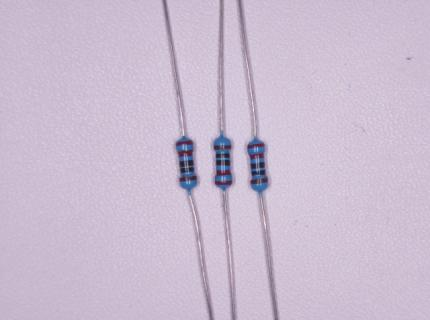Black band: (180, 160, 194, 167), (251, 163, 265, 169), (252, 170, 266, 176), (181, 167, 194, 173), (216, 160, 230, 165), (216, 154, 230, 158)
Brown band: (251, 178, 268, 184), (180, 176, 196, 182), (214, 145, 231, 150)
Red band: (176, 140, 193, 146), (179, 150, 193, 157), (216, 170, 231, 176), (248, 144, 265, 149), (250, 154, 264, 160), (215, 181, 232, 185)
